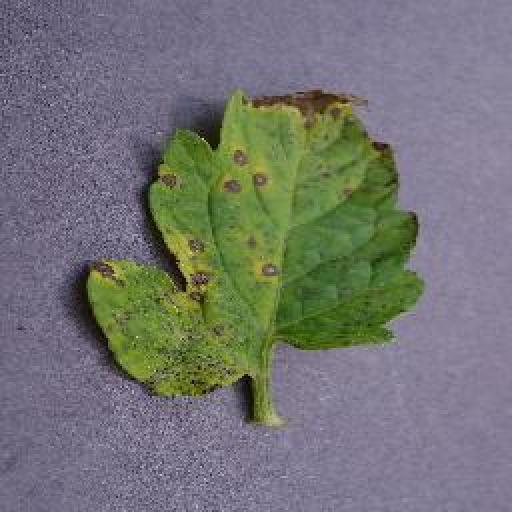disease_tomato: (90, 85, 428, 399)
